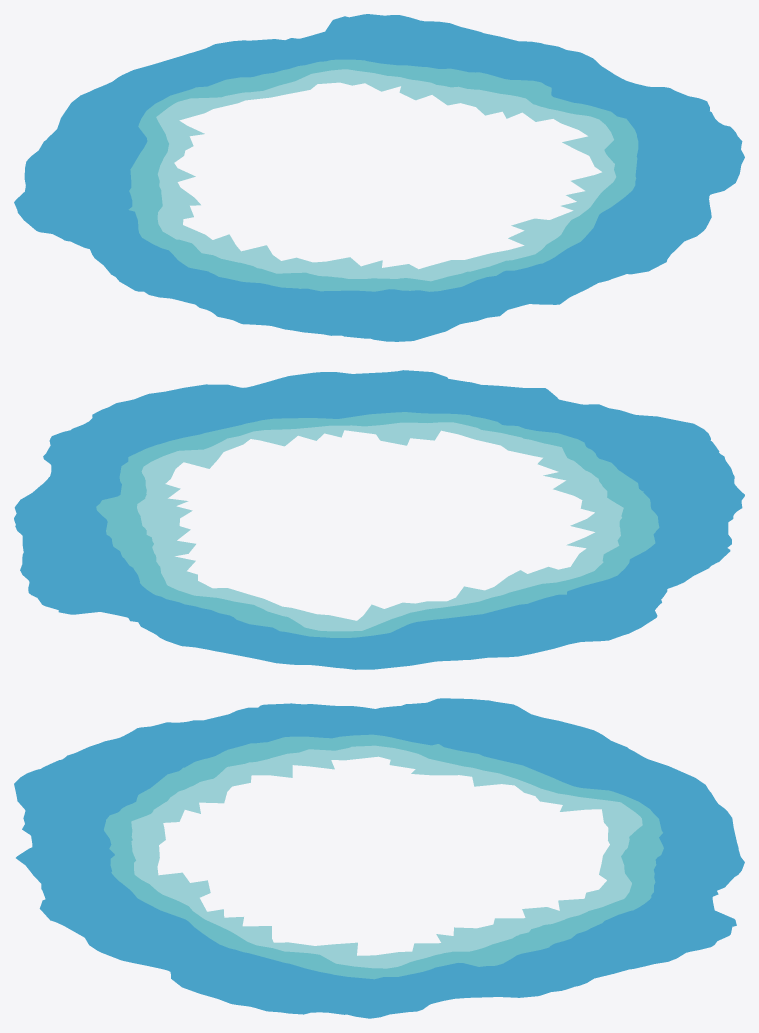
Rendered from Isl-islet3-Water.fbx.
3 renders of one model, top to bottom at view 1: azimuth 30°, elevation 25°; view 2: azimuth 150°, elevation 25°; view 3: azimuth 270°, elevation 25°, orthographic. The views are drawn at different scales.
Visible parts, largest first — view 1: Isl-islet3-Water; view 2: Isl-islet3-Water; view 3: Isl-islet3-Water.
Part boxes in pixels (x1=…): Isl-islet3-Water: x1=14, y1=14, x2=744, y2=341; Isl-islet3-Water: x1=14, y1=370, x2=744, y2=669; Isl-islet3-Water: x1=14, y1=698, x2=744, y2=1018.
Bounding box in the file's own units: 36.07 × 0 × 34.77.
